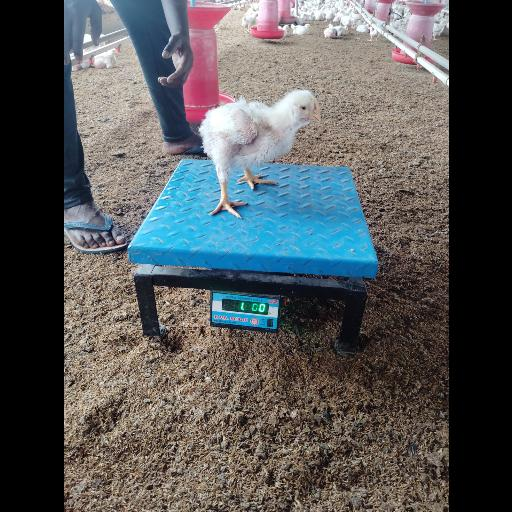chick: (206, 90, 318, 204)
